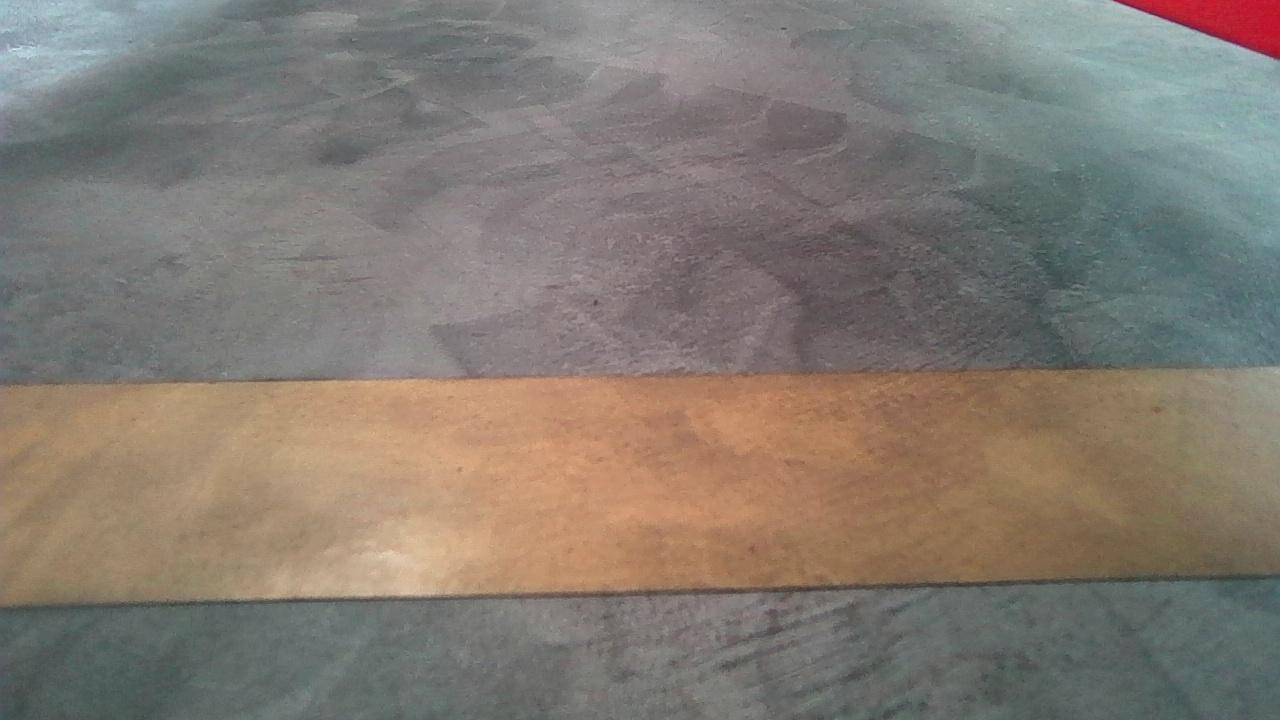yellow_line: (1, 359, 1273, 613)
